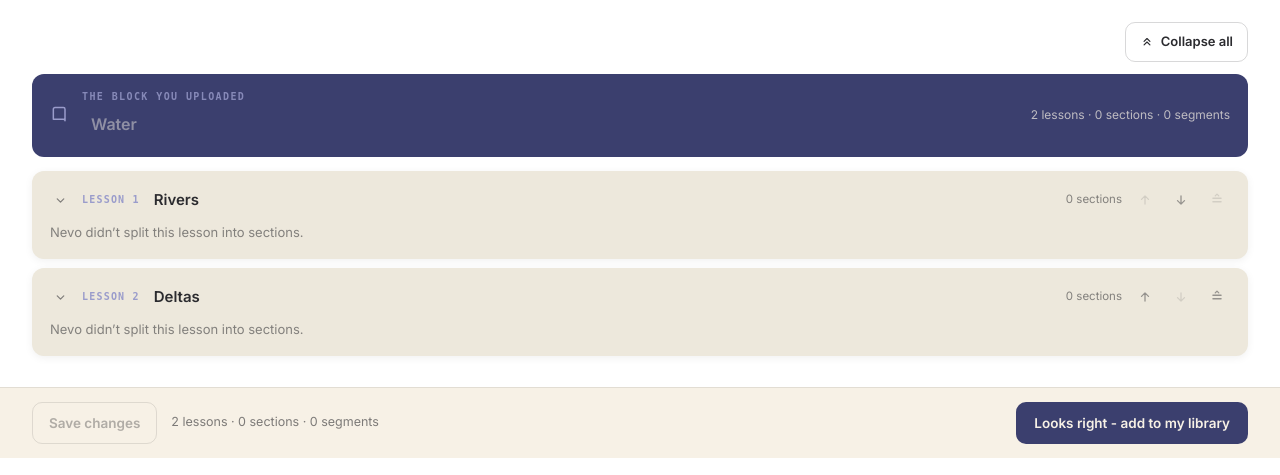
Scenario: adding a unit to the library › says it was added, then goes to the library
This screenshot has width=1280, height=475.
Click the button "Looks right - add to my library". click: (1132, 423)
box: x1=1016 y1=402 x2=1248 y2=444
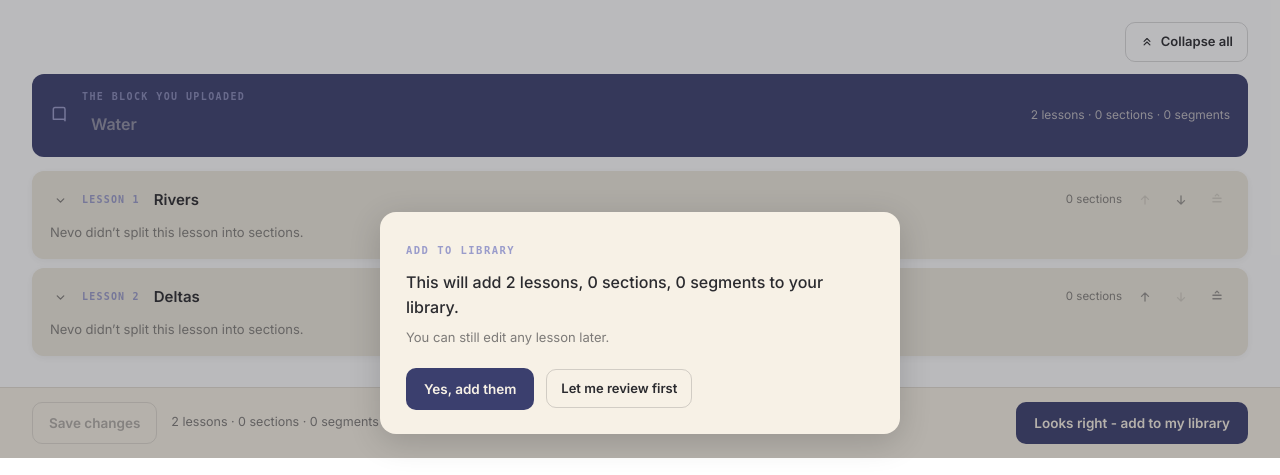
Click the button "Yes, add them". click: (470, 389)
box: x1=406 y1=368 x2=534 y2=410
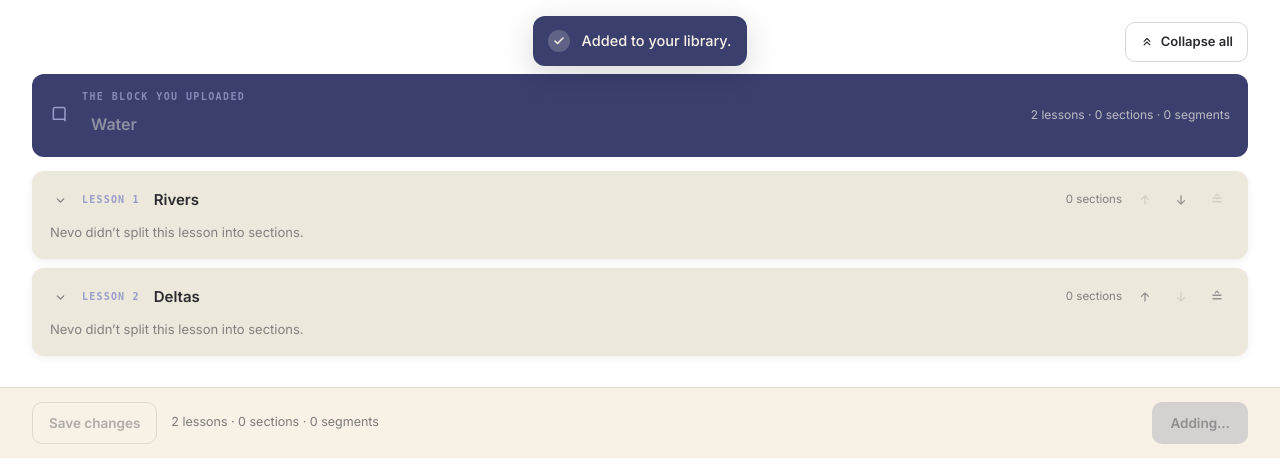
Expected: the text "Added to your library." is shown, x1=582 y1=31 x2=731 y2=51
